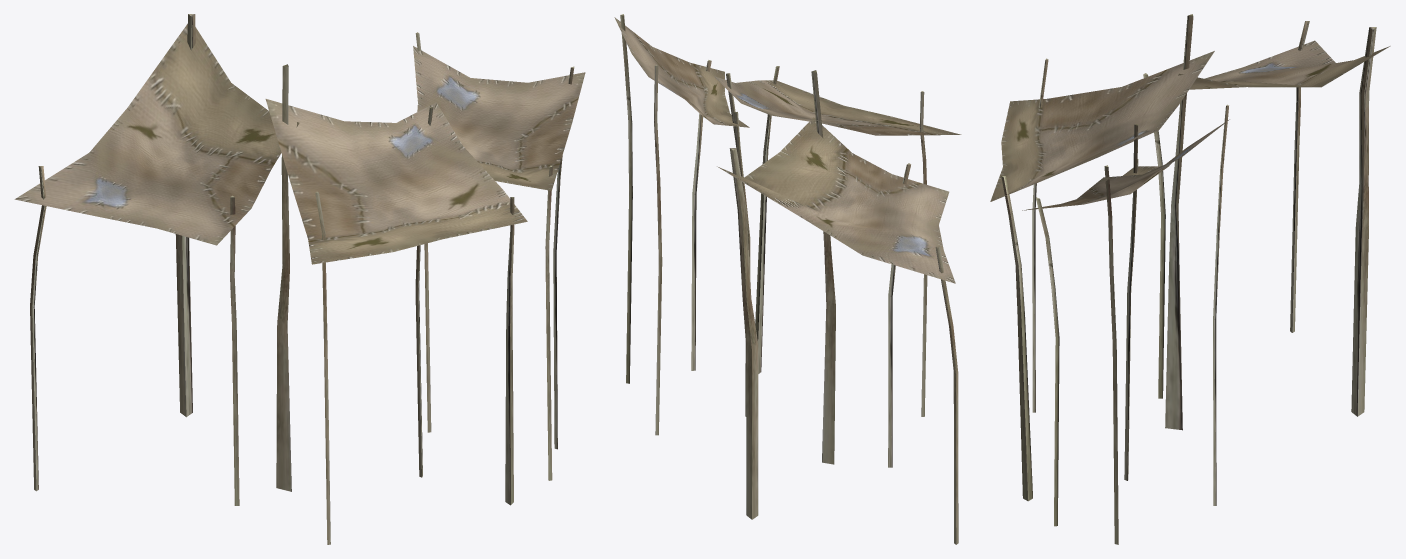
The model's file is pir_m_prp_tnt_group3.fbx.
The picture shows the model from 3 angles, left to right: view 1: azimuth 30°, elevation 25°; view 2: azimuth 150°, elevation 25°; view 3: azimuth 270°, elevation 25°; orthographic projection. The views are drawn at different scales.
Parts seen in each view (by area): view 1: canopy6, canopy5, canopy8, post23, post22, post13, post16, post15, post7, post19, post9, post24 (+1 smaller); view 2: canopy6, canopy5, canopy8, post22, post23, post9, post13, post10, post16, post19, post15, post7 (+1 smaller); view 3: canopy5, post22, canopy6, post23, post13, canopy8, post9, post10, post19, post16, post15, post24 (+1 smaller).
Boxes of the visible parts, <box> form: canopy6: <box>14,24,299,245</box>; canopy5: <box>265,99,527,264</box>; canopy8: <box>413,46,585,190</box>; post23: <box>276,64,291,491</box>; post22: <box>175,14,195,417</box>; post13: <box>505,197,514,505</box>; post16: <box>30,166,46,491</box>; post15: <box>230,195,239,505</box>; post7: <box>315,191,330,544</box>; post19: <box>545,165,552,480</box>; post9: <box>553,66,574,449</box>; post24: <box>415,245,422,477</box>; canopy6: <box>717,117,955,283</box>; canopy5: <box>714,76,961,135</box>; canopy8: <box>614,17,749,127</box>; post22: <box>729,148,758,519</box>; post23: <box>811,70,835,464</box>; post9: <box>620,14,632,383</box>; post13: <box>755,66,779,373</box>; post10: <box>654,64,662,435</box>; post16: <box>935,246,958,544</box>; post19: <box>691,60,711,370</box>; post15: <box>888,163,910,467</box>; post7: <box>919,91,927,416</box>; canopy5: <box>990,51,1214,201</box>; post22: <box>1351,27,1376,416</box>; canopy6: <box>1178,40,1390,89</box>; post23: <box>1165,14,1193,430</box>; post13: <box>1001,176,1032,501</box>; canopy8: <box>1022,119,1229,210</box>; post9: <box>1104,165,1118,544</box>; post10: <box>1213,104,1228,505</box>; post19: <box>1036,197,1059,526</box>; post16: <box>1290,21,1309,332</box>; post15: <box>1143,73,1165,398</box>; post24: <box>1124,159,1138,480</box>.
Size of the model in its own units: 2665 by 2268 by 1982.
Materials: 2 (2 with a texture image).
